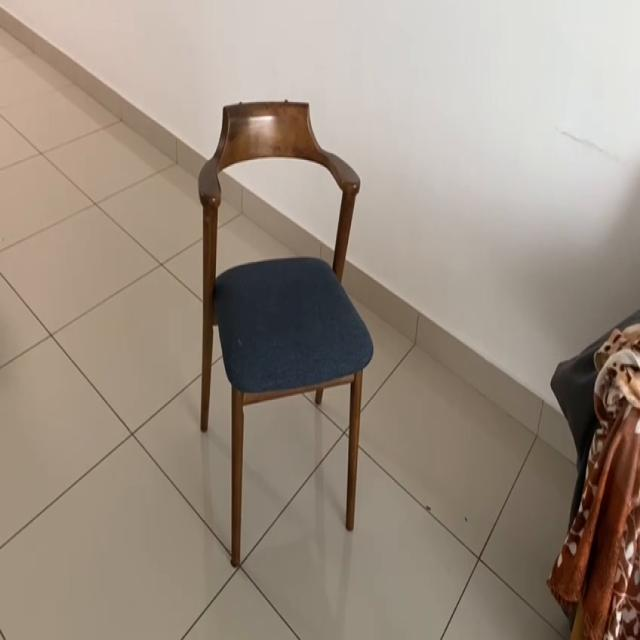Chair: (180, 89, 384, 553)
